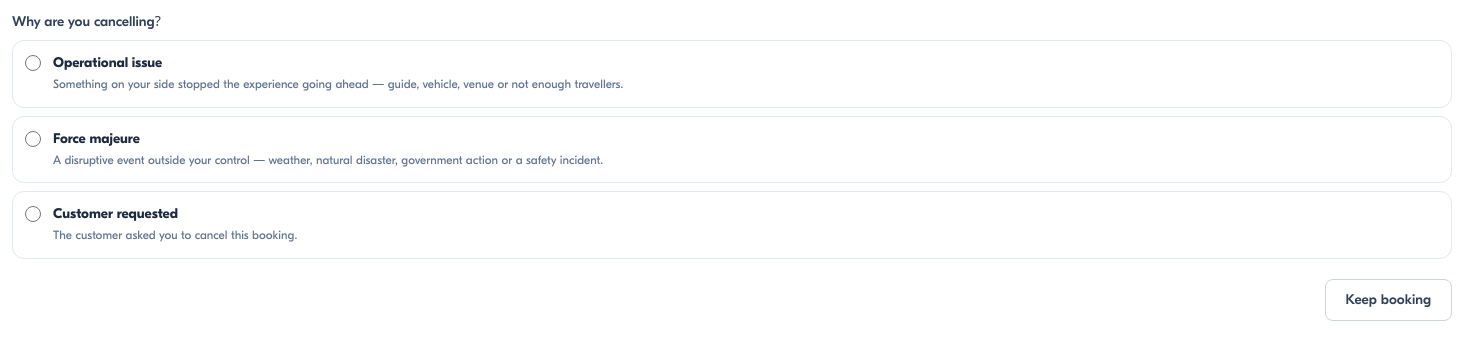
Test: CancellationReasonWizard › advances to labelled reasons when a category is chosen
Click the radio button labelled "Operational issue": (33,63) [25, 55, 41, 71]
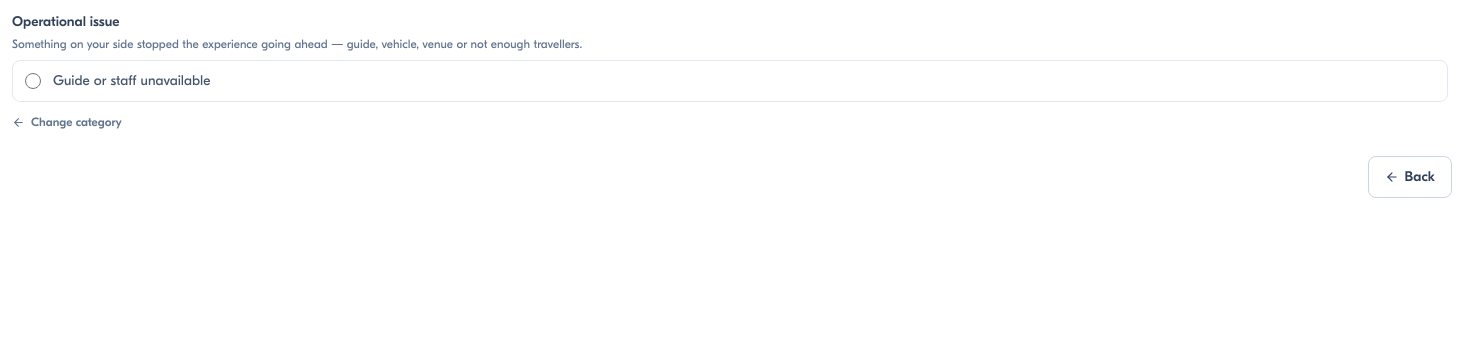
Now the text "Guide or staff unavailable" is shown, box [12, 60, 1448, 102]
Now the radio button labelled "Guide or staff unavailable" is shown, box [25, 73, 41, 89]
